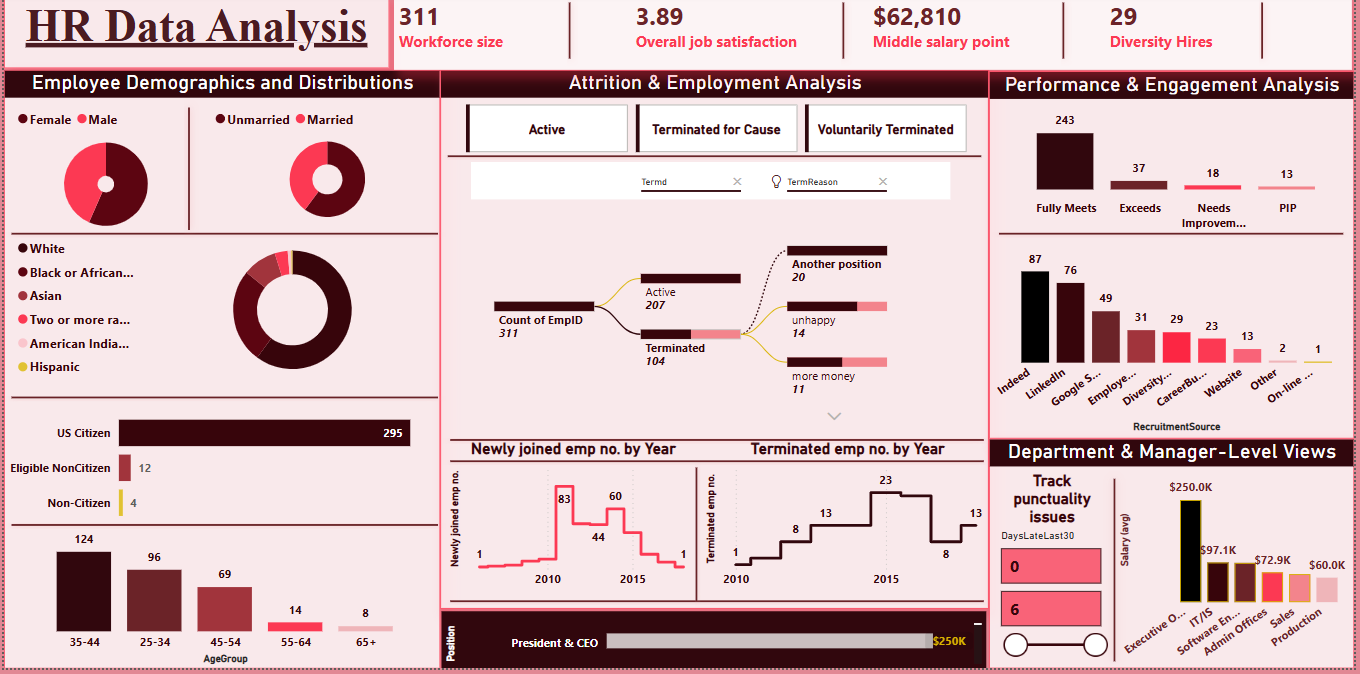

The dashboard page shown, as its layout file describes it:
{"tool":"powerbi","page":{"name":"Dashboard","canvas":[1443,720],"ordinal":0},"visuals":[{"type":"textbox","box":[0,0,412,78],"z":0},{"type":"shape","title":"Employee Demographics and Distributions ","box":[0,80.2,466.4,640.1],"z":1000},{"type":"donutChart","fields":{"Y":["CountNonNull(HRDataset_v14.EmpID)"],"Category":["HRDataset_v14.Gender"]},"box":[9.4,112.3,199.1,151],"z":2000},{"type":"donutChart","fields":{"Y":["CountNonNull(HRDataset_v14.EmpID)"],"Category":["HRDataset_v14.MarriedID"]},"box":[220.5,112.3,251.2,140.3],"z":3000},{"type":"donutChart","fields":{"Y":["CountNonNull(HRDataset_v14.EmpID)"],"Category":["HRDataset_v14.RaceDesc"]},"box":[9.4,252.6,462.4,168.4],"z":4000},{"type":"barChart","fields":{"Category":["HRDataset_v14.CitizenDesc"],"Y":["CountNonNull(HRDataset_v14.EmpID)"]},"box":[0,426.3,466.4,152.3],"z":5000},{"type":"shape","title":"Attrition & Employment Analysis","box":[466.4,80.2,586.6,575.9],"z":6000},{"type":"columnChart","fields":{"Category":["HRDataset_v14.AgeGroup"],"Y":["CountNonNull(HRDataset_v14.EmpID)"]},"box":[21.4,558.6,431.6,161.7],"z":7000},{"type":"shape","box":[0,422.3,471.7,12],"z":8000},{"type":"shape","box":[0,558.6,471.7,12],"z":9000},{"type":"shape","box":[0,247.2,471.7,12],"z":10000},{"type":"advancedSlicerVisual","fields":{"Values":["HRDataset_v14.EmploymentStatus"]},"box":[489.1,112.3,547.9,61.5],"z":11000},{"type":"lineChart","fields":{"Y":["CountNonNull(HRDataset_v14.EmpID)"],"Category":["HRDataset_v14.DateofHire.Variation.Date Hierarchy.Year"]},"box":[471.7,474.4,273.9,168.4],"z":12000},{"type":"lineChart","fields":{"Y":["CountNonNull(HRDataset_v14.EmpID)"],"Category":["HRDataset_v14.DateofTermination.Variation.Date Hierarchy.Year"]},"box":[745.7,474.4,312.7,168.4],"z":13000},{"type":"decompositionTreeVisual","fields":{"Analyze":["CountNonNull(HRDataset_v14.EmpID)"],"ExplainBy":["HRDataset_v14.Termd","HRDataset_v14.TermReason"]},"box":[494.4,173.7,522.5,287.3],"z":14000},{"type":"shape","box":[469,490.4,586.6,12],"z":15000},{"type":"shape","box":[466.4,164.4,586.6,12],"z":16000},{"type":"shape","box":[469,640.1,586.6,12],"z":17000},{"type":"shape","title":"Performance & Engagement Analysis","box":[1053,81.5,390.2,392.9],"z":18000},{"type":"columnChart","fields":{"Category":["HRDataset_v14.PerformanceScore"],"Y":["CountNonNull(HRDataset_v14.EmpID)"]},"box":[1055.7,112.3,384.9,147],"z":19000},{"type":"multiRowCard","fields":{"Values":["CountNonNull(HRDataset_v14.EmpID)","Avg(HRDataset_v14.EmpSatisfaction)","Median(HRDataset_v14.Salary)","HRDataset_v14.Diversity Hires"]},"box":[416.9,0,1023.6,80.2],"z":20000},{"type":"shape","title":"Department & Manager-Level Views","box":[1053,474.4,390.2,245.9],"z":21000},{"type":"columnChart","fields":{"Y":["Avg(HRDataset_v14.Salary)"],"Category":["HRDataset_v14.Department"]},"box":[1188,502.5,255.2,217.8],"z":22000},{"type":"shape","box":[732.3,497.1,12,159],"z":23000},{"type":"shape","box":[187.1,112.3,21.4,147],"z":24000},{"type":"shape","box":[596,0,17.4,76.2],"z":25000},{"type":"shape","box":[888.6,0,17.4,76.2],"z":26000},{"type":"shape","box":[1123.8,0,17.4,76.2],"z":27000},{"type":"shape","box":[1336.3,0,17.4,76.2],"z":28000},{"type":"shape","box":[1055.7,247.2,384.9,12],"z":29000},{"type":"columnChart","fields":{"Y":["CountNonNull(HRDataset_v14.EmpID)"],"Category":["HRDataset_v14.RecruitmentSource"]},"box":[1055.7,259.2,384.9,213.8],"z":30000},{"type":"slicer","title":"\tTrack punctuality issues","fields":{"Values":["HRDataset_v14.DaysLateLast30"]},"box":[1053,509.1,135,200.4],"z":31000},{"type":"shape","box":[1167.9,509.1,38.8,211.1],"z":32000},{"type":"clusteredBarChart","fields":{"Category":["HRDataset_v14.Position"],"Y":["Avg(HRDataset_v14.Salary)"]},"box":[467.7,658.5,582.6,61.5],"z":33000},{"type":"shape","box":[469,467.7,586.6,12],"z":34000}]}

Visuals, with their boxes in screenshot pixels (x1, y1, x2, y2), scaled from the page's 1443x720 canvas onto the 1360x674 screenshot:
textbox: BBox(0, 0, 388, 73)
"Employee Demographics and Distributions " shape: BBox(0, 75, 440, 673)
donutChart - CountNonNull(HRDataset_v14.EmpID) x HRDataset_v14.Gender: BBox(9, 105, 197, 246)
donutChart - CountNonNull(HRDataset_v14.EmpID) x HRDataset_v14.MarriedID: BBox(208, 105, 445, 236)
donutChart - CountNonNull(HRDataset_v14.EmpID) x HRDataset_v14.RaceDesc: BBox(9, 236, 445, 394)
barChart - HRDataset_v14.CitizenDesc x CountNonNull(HRDataset_v14.EmpID): BBox(0, 399, 440, 542)
"Attrition & Employment Analysis" shape: BBox(440, 75, 992, 614)
columnChart - HRDataset_v14.AgeGroup x CountNonNull(HRDataset_v14.EmpID): BBox(20, 523, 427, 673)
shape: BBox(0, 395, 445, 407)
shape: BBox(0, 523, 445, 534)
shape: BBox(0, 231, 445, 243)
advancedSlicerVisual - HRDataset_v14.EmploymentStatus: BBox(461, 105, 977, 163)
lineChart - CountNonNull(HRDataset_v14.EmpID) x HRDataset_v14.DateofHire.Variation.Date Hierarchy.Year: BBox(445, 444, 703, 602)
lineChart - CountNonNull(HRDataset_v14.EmpID) x HRDataset_v14.DateofTermination.Variation.Date Hierarchy.Year: BBox(703, 444, 998, 602)
decompositionTreeVisual - CountNonNull(HRDataset_v14.EmpID) x HRDataset_v14.Termd: BBox(466, 163, 958, 432)
shape: BBox(442, 459, 995, 470)
shape: BBox(440, 154, 992, 165)
shape: BBox(442, 599, 995, 610)
"Performance & Engagement Analysis" shape: BBox(992, 76, 1359, 444)
columnChart - HRDataset_v14.PerformanceScore x CountNonNull(HRDataset_v14.EmpID): BBox(995, 105, 1358, 243)
multiRowCard - CountNonNull(HRDataset_v14.EmpID) x Avg(HRDataset_v14.EmpSatisfaction): BBox(393, 0, 1358, 75)
"Department & Manager-Level Views" shape: BBox(992, 444, 1359, 673)
columnChart - Avg(HRDataset_v14.Salary) x HRDataset_v14.Department: BBox(1120, 470, 1359, 673)
shape: BBox(690, 465, 701, 614)
shape: BBox(176, 105, 197, 243)
shape: BBox(562, 0, 578, 71)
shape: BBox(837, 0, 854, 71)
shape: BBox(1059, 0, 1076, 71)
shape: BBox(1259, 0, 1276, 71)
shape: BBox(995, 231, 1358, 243)
columnChart - CountNonNull(HRDataset_v14.EmpID) x HRDataset_v14.RecruitmentSource: BBox(995, 243, 1358, 443)
"	Track punctuality issues" slicer: BBox(992, 477, 1120, 664)
shape: BBox(1101, 477, 1137, 673)
clusteredBarChart - HRDataset_v14.Position x Avg(HRDataset_v14.Salary): BBox(441, 616, 990, 673)
shape: BBox(442, 438, 995, 449)
